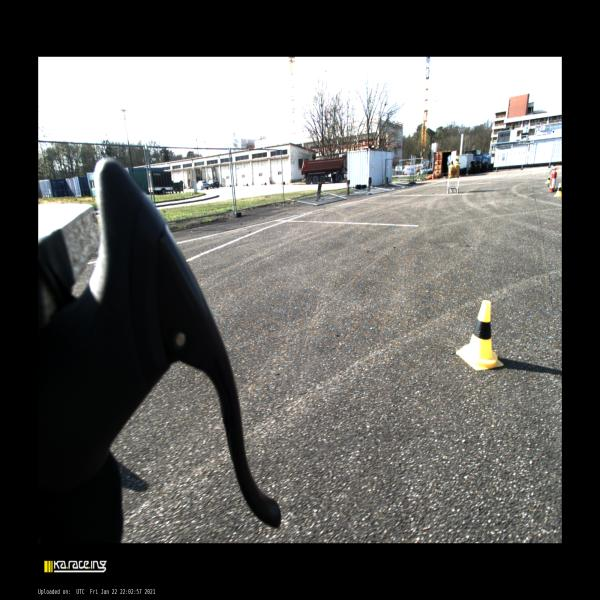yellow_cone: (456, 300, 503, 370), (554, 183, 562, 197), (546, 174, 550, 184), (456, 156, 460, 165), (450, 159, 454, 167), (455, 156, 457, 164)
